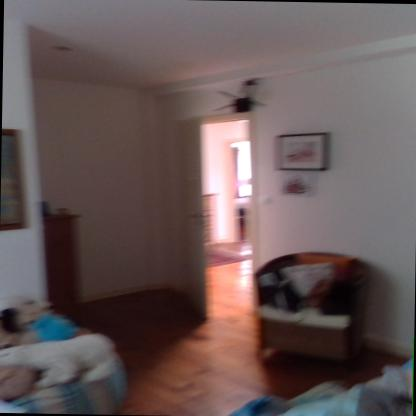semi: (163, 104, 267, 327)
